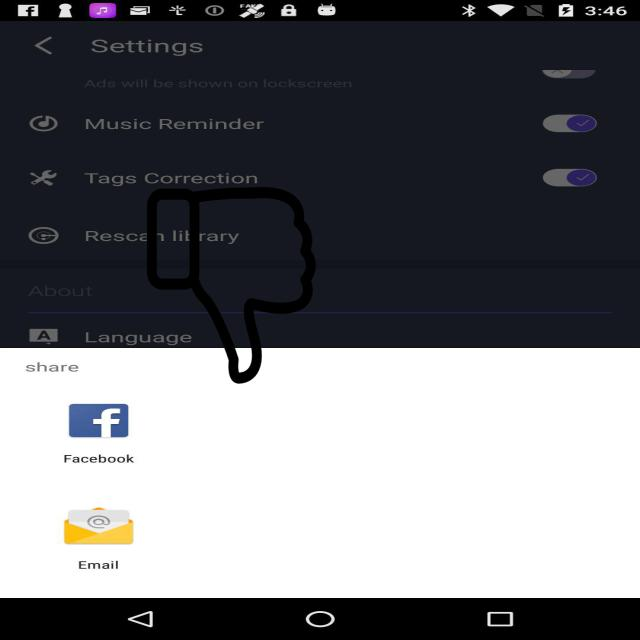obstruction: (145, 187, 318, 384)
